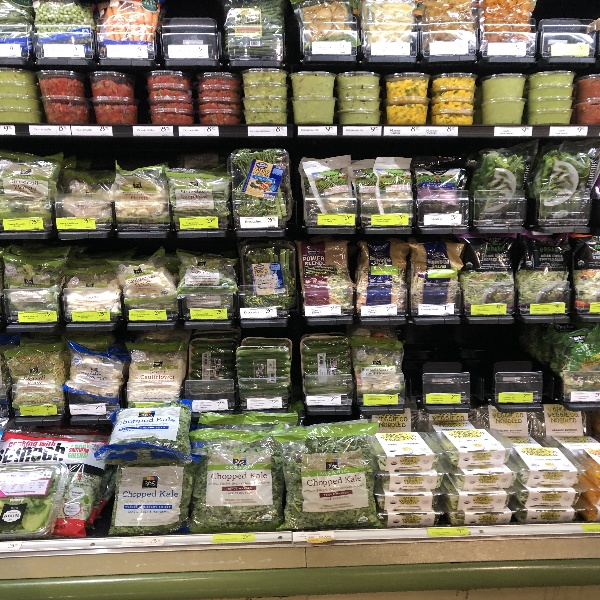void: (408, 328, 487, 409), (490, 324, 553, 411), (158, 3, 222, 63), (540, 1, 598, 61)
